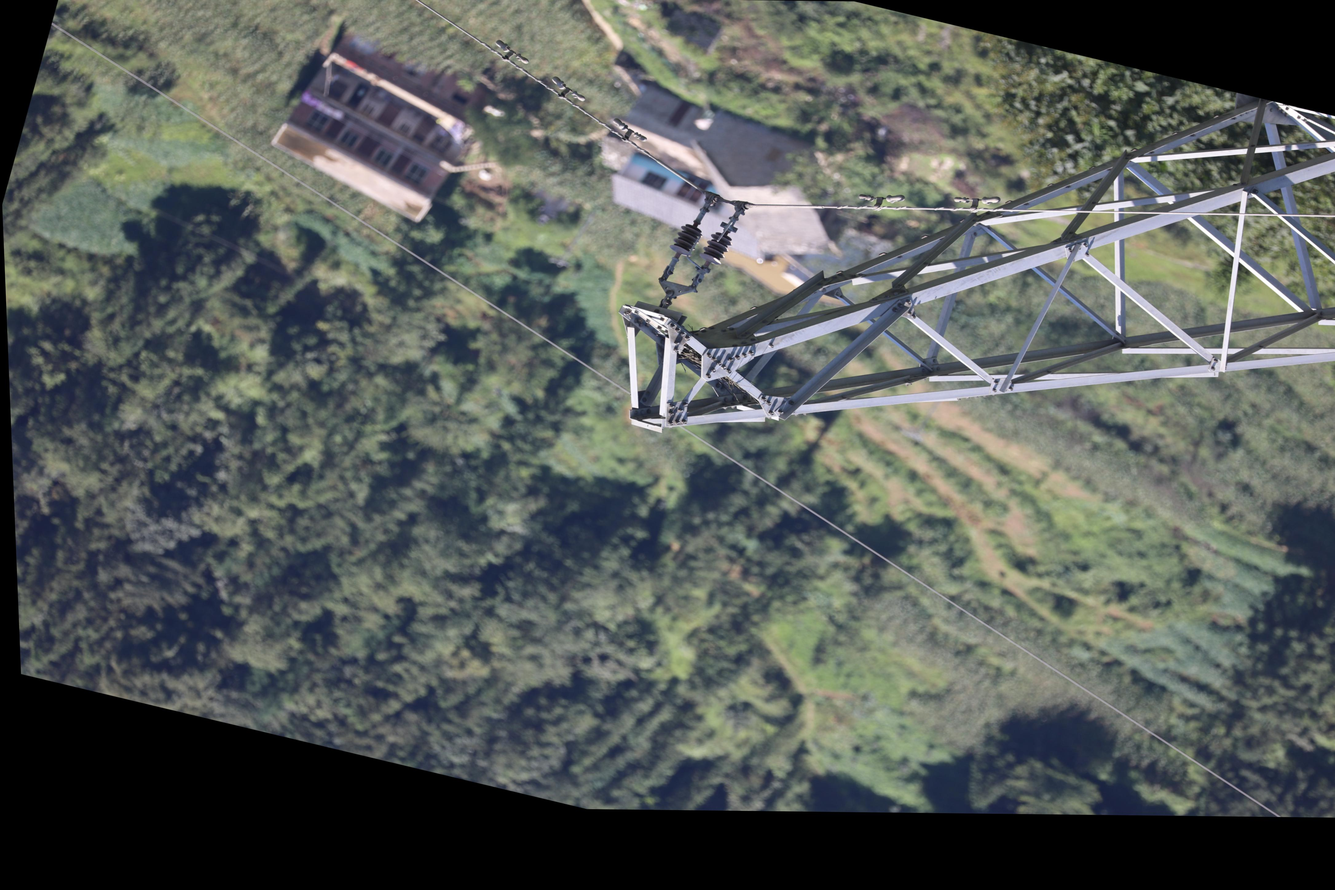damper: (948, 184, 1004, 220), (853, 183, 909, 218), (543, 73, 593, 108), (487, 36, 537, 70), (604, 115, 654, 149)
